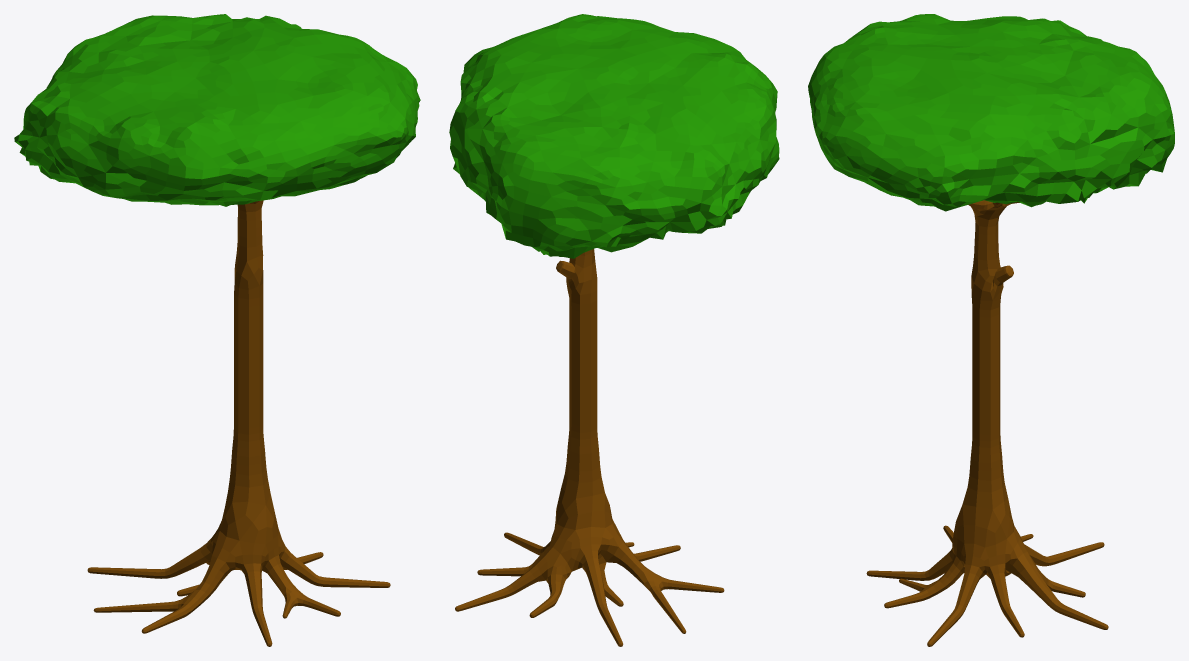
Rendered from tall trees.fbx.
The picture shows the model from 3 angles, left to right: view 1: azimuth 30°, elevation 25°; view 2: azimuth 150°, elevation 25°; view 3: azimuth 270°, elevation 25°; orthographic projection. The views are drawn at different scales.
Visible parts, largest first — view 1: arbre grand; view 2: arbre grand; view 3: arbre grand.
Part boxes in pixels (x1,y1,x2,y2): arbre grand: [14, 14, 420, 646]; arbre grand: [449, 14, 779, 646]; arbre grand: [808, 14, 1174, 646].
Size of the model in its own units: 3767 by 5897 by 3699.
